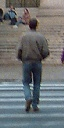person: (19, 18, 45, 112)
